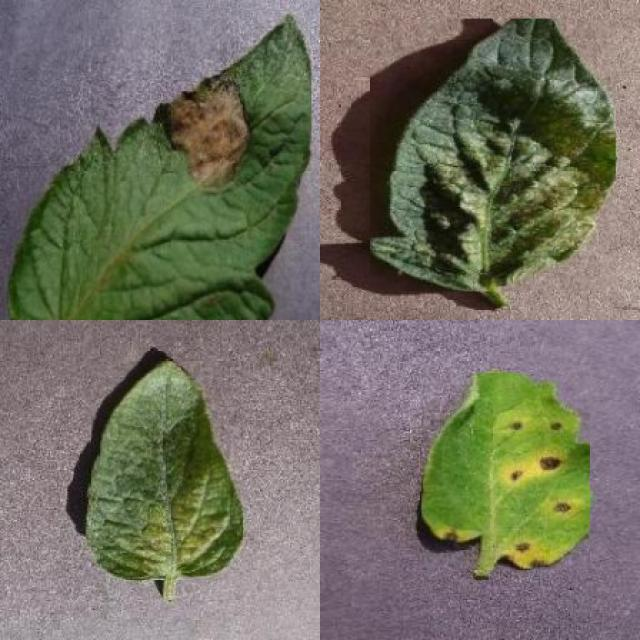Late Blight: (5, 9, 312, 320)
Septoria: (422, 373, 591, 570)
Spider Mites: (371, 18, 616, 292), (86, 360, 243, 580)
